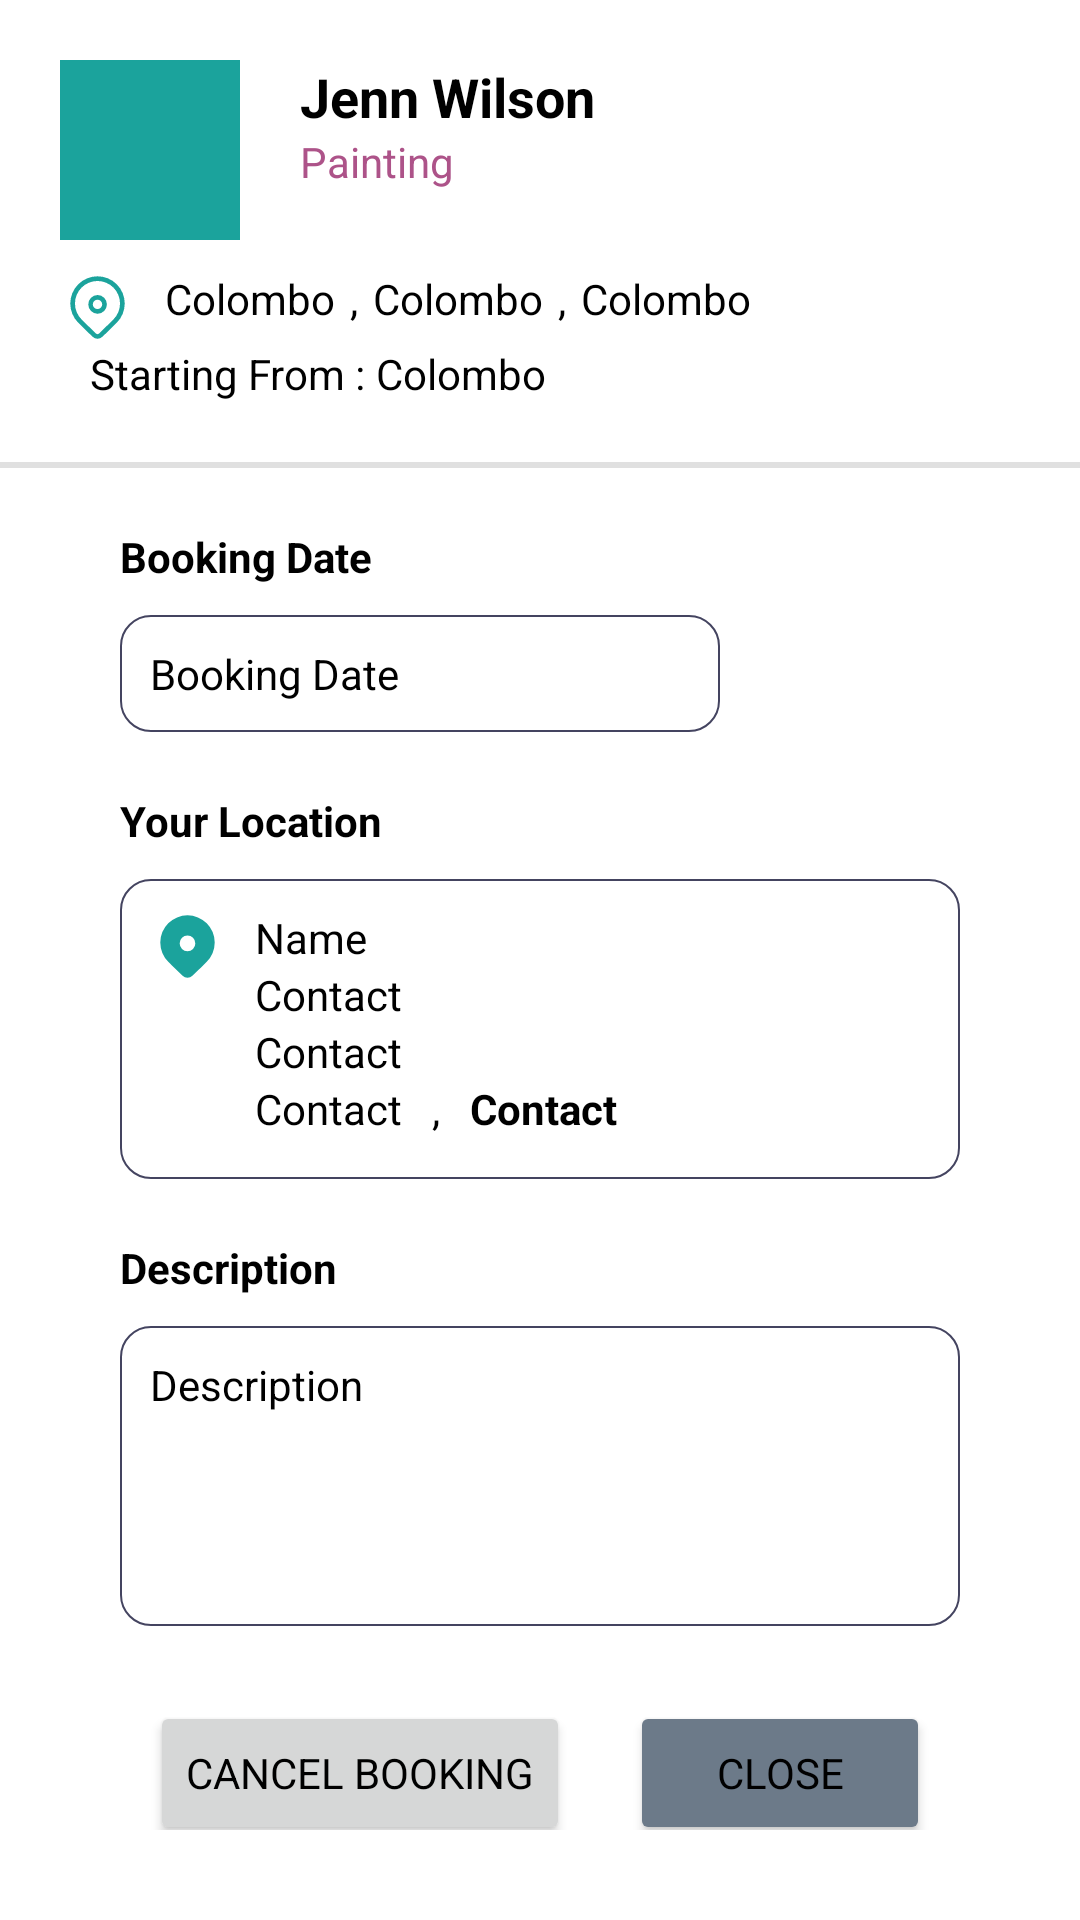

Screen size 1080 × 1920. Icon name, then its box in pixels as (x1, y1, x2, y2):
fluent location: (70, 276, 125, 339), (160, 915, 215, 978)
